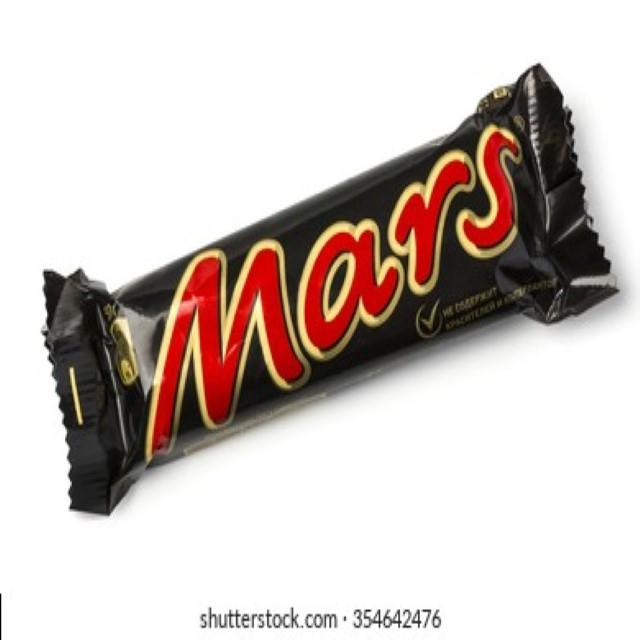mars_chocolate: (44, 82, 554, 535)
